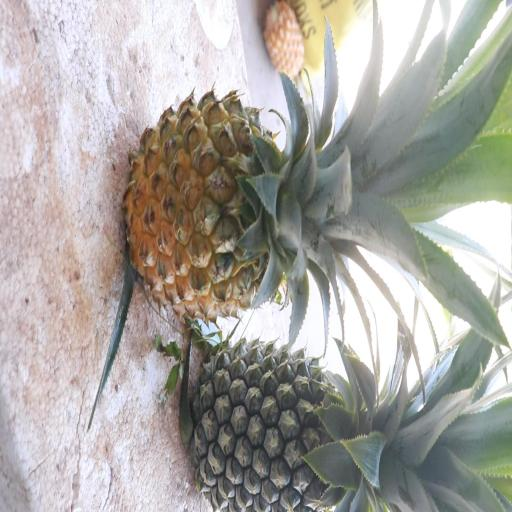Pineapple - v8 v1: (123, 90, 395, 325)
